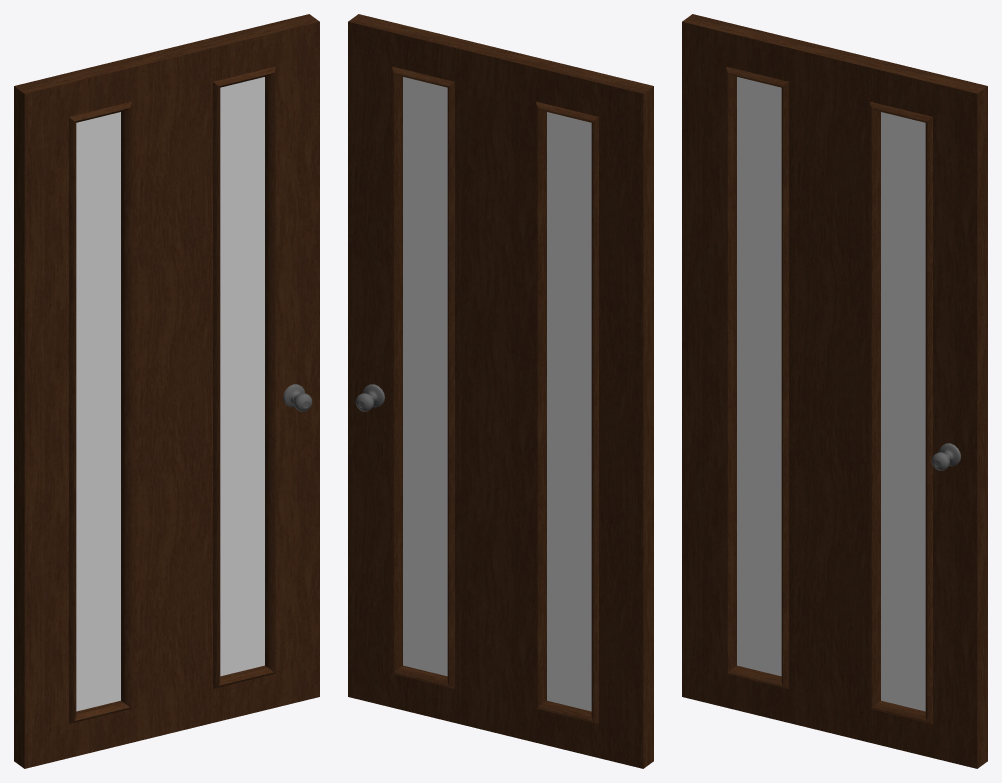
File: d_leaf_e.glb
3 renders of one model, left to right at view 1: azimuth 30°, elevation 25°; view 2: azimuth 150°, elevation 25°; view 3: azimuth 330°, elevation 25°, orthographic.
Parts seen in each view (by area): view 1: doorFront_E_05_Wood027_0, doorFront_E_05_doorFront_glass_0, doorFront_E_05_doorFront_knob_0; view 2: doorFront_E_05_Wood027_0, doorFront_E_05_doorFront_glass_0, doorFront_E_05_doorFront_knob_0; view 3: doorFront_E_05_Wood027_0, doorFront_E_05_doorFront_glass_0, doorFront_E_05_doorFront_knob_0.
Part boxes in pixels (left/top/right/bottom): doorFront_E_05_Wood027_0: left=14, top=14, right=319, bottom=768; doorFront_E_05_doorFront_glass_0: left=76, top=77, right=264, bottom=711; doorFront_E_05_doorFront_knob_0: left=283, top=384, right=312, bottom=411; doorFront_E_05_Wood027_0: left=348, top=14, right=653, bottom=768; doorFront_E_05_doorFront_glass_0: left=403, top=77, right=591, bottom=711; doorFront_E_05_doorFront_knob_0: left=355, top=384, right=384, bottom=411; doorFront_E_05_Wood027_0: left=682, top=14, right=987, bottom=768; doorFront_E_05_doorFront_glass_0: left=737, top=77, right=925, bottom=711; doorFront_E_05_doorFront_knob_0: left=931, top=443, right=960, bottom=470.
Bounding box in the file's own units: 0.9202 × 2.01 × 0.197.
Materials: 3 (1 with a texture image).
